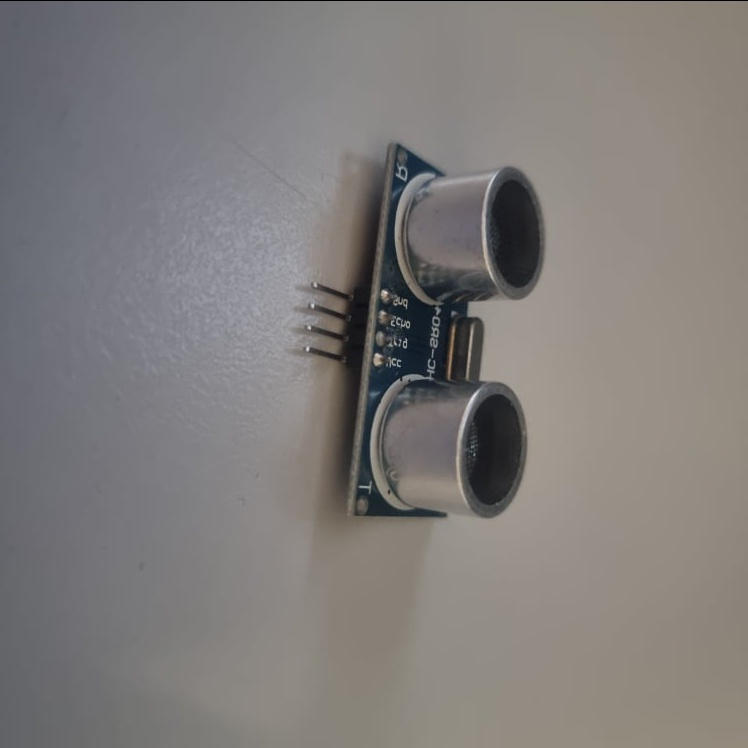SENSOR: (307, 142, 543, 518)
